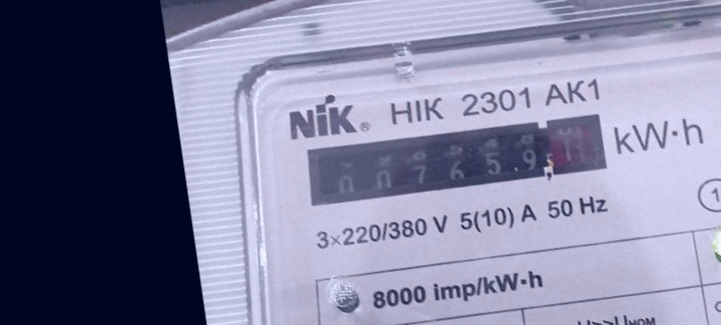0: (373, 166, 396, 194), (336, 171, 357, 199)
1: (560, 133, 578, 167)
5: (481, 148, 507, 178)
6: (446, 157, 468, 183)
7: (409, 162, 433, 189)
9: (519, 145, 541, 175)
screen: (293, 94, 621, 229)
